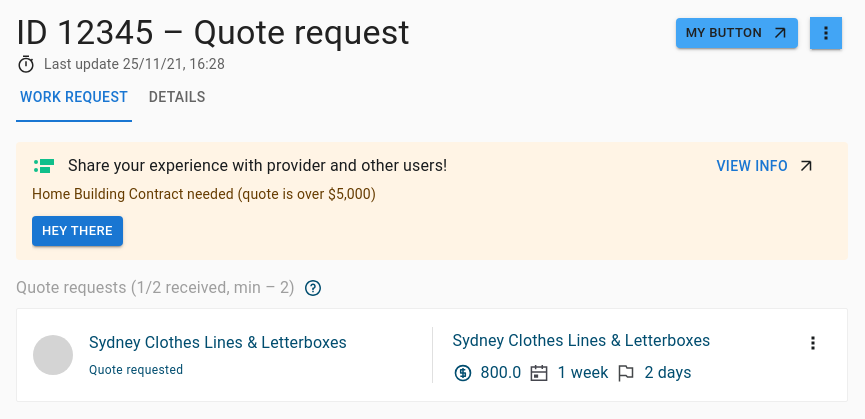
Test: TabComponents › switches tabs correctly
// Click on the 'Details' tab
Click the tab "DETAILS": {"x": 177, "y": 98} [132,74,222,122]
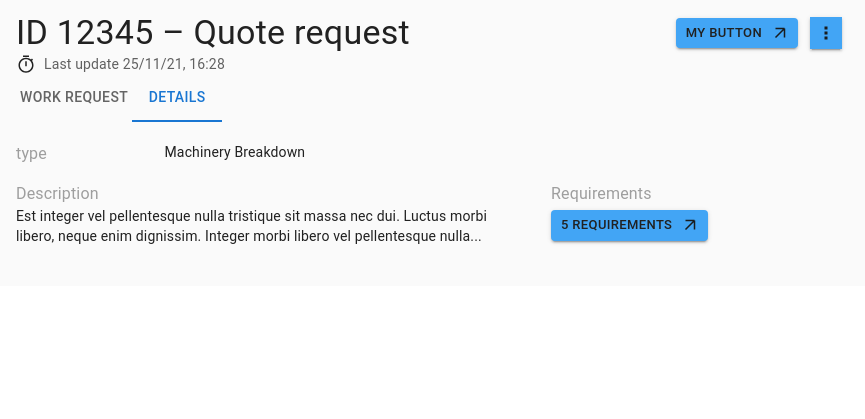
Now the text "Machinery Breakdown" is shown, box [164,142,313,162]
// Click on the 'WorkRequest' tab
Click the tab "WORK REQUEST": {"x": 74, "y": 98} [16,74,132,122]
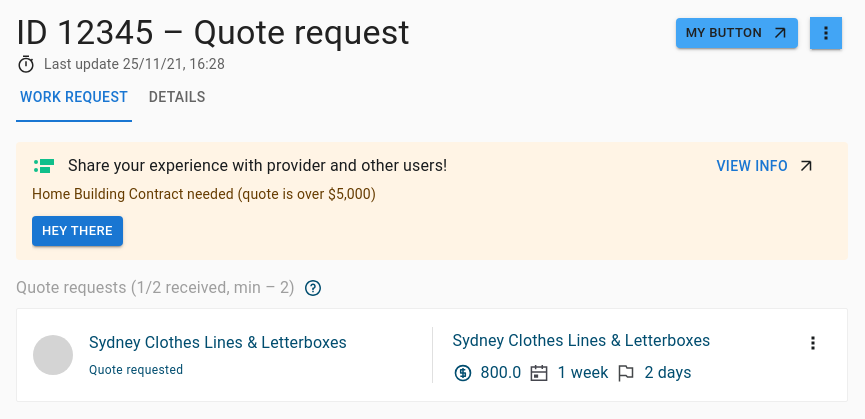
Now the text "Share your experience with provider and other users!" is shown, box [68,154,447,178]
